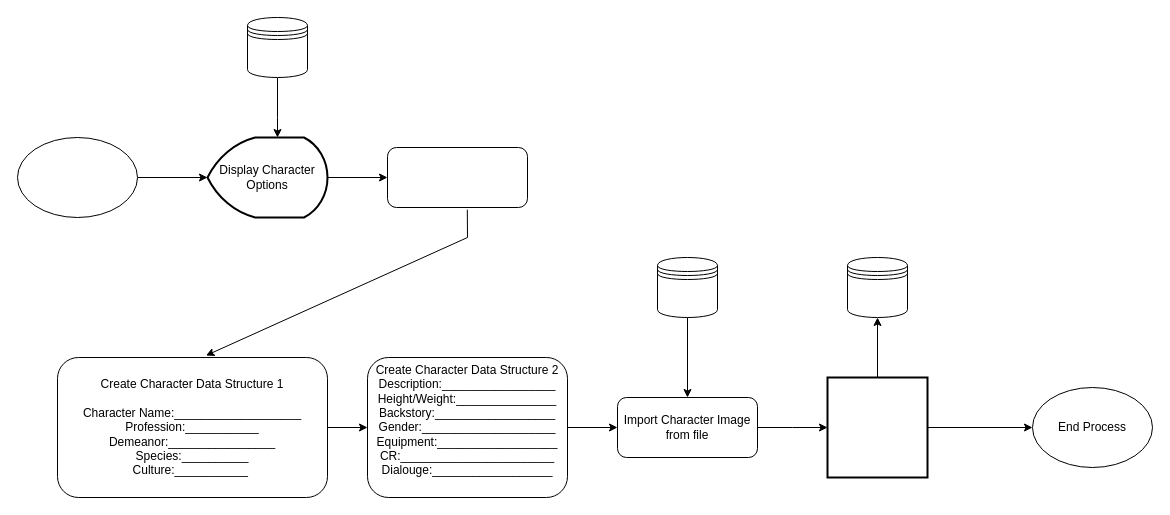
Some shapes in this 1170 by 515 pixel diagram are drawn without their labels. The shapes that lost their labels are listed below. From the top down, each one's centre as x and y in pixels, then its label:
point 77,177: Start Process
point 457,177: Create Faction Data Structure
point 877,427: Store Users Choices as a new player Data entry
